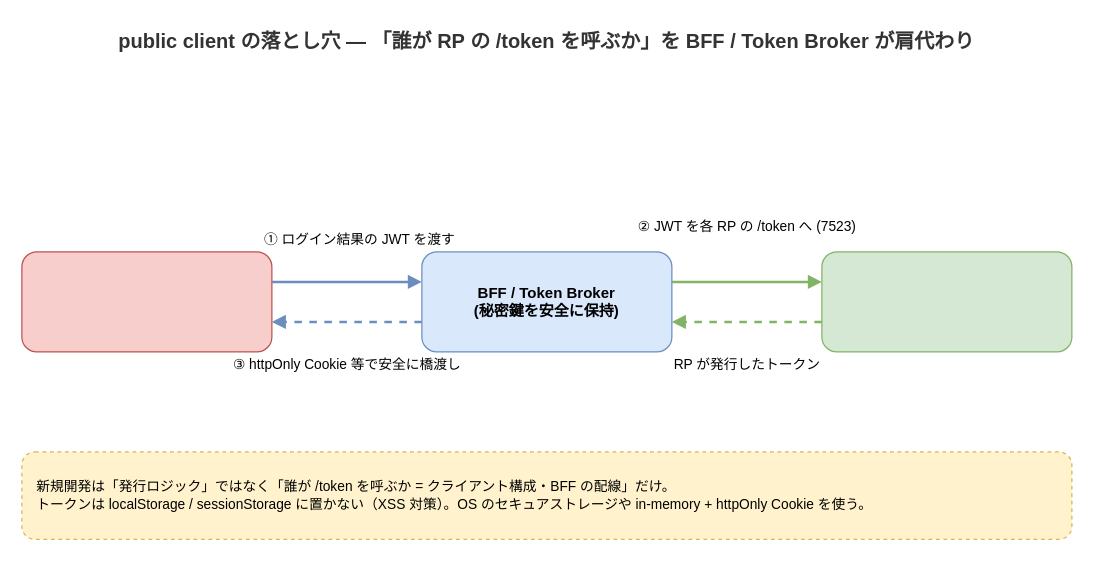
The diagram is 1094 pixels wide and 561 high, and some of its shapes have lost their labels. Here are the shapes that lost their labels. From the top down, the centre of each, then its label:
At (x=146, y=301): "モバイルアプリ (秘密鍵を持てない)".
At (x=946, y=301): "各 RP (経費/マスタ/店舗)".
